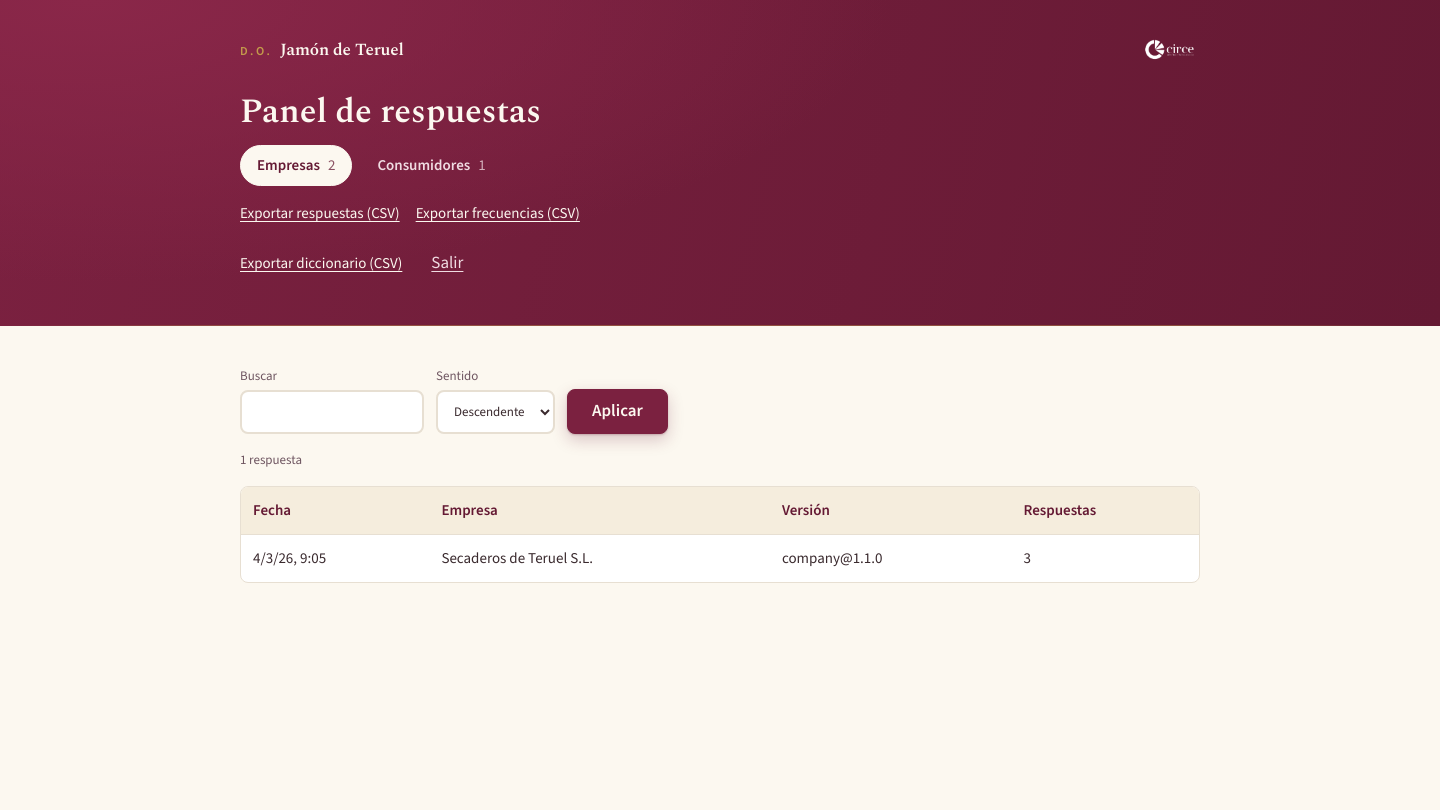
Test case: the admin panel › applies the filters only on submit, and carries them into the export links
The width and height of the screenshot is (1440, 810).
Expected: the button "4/3/26, 9:05 Secaderos de Teruel S.L. company@1.1.0 3" is shown, [241,535,1199,582]
Type "teruel" into the search field labelled "Buscar" at coordinates (332, 412), box [240,390,424,434]
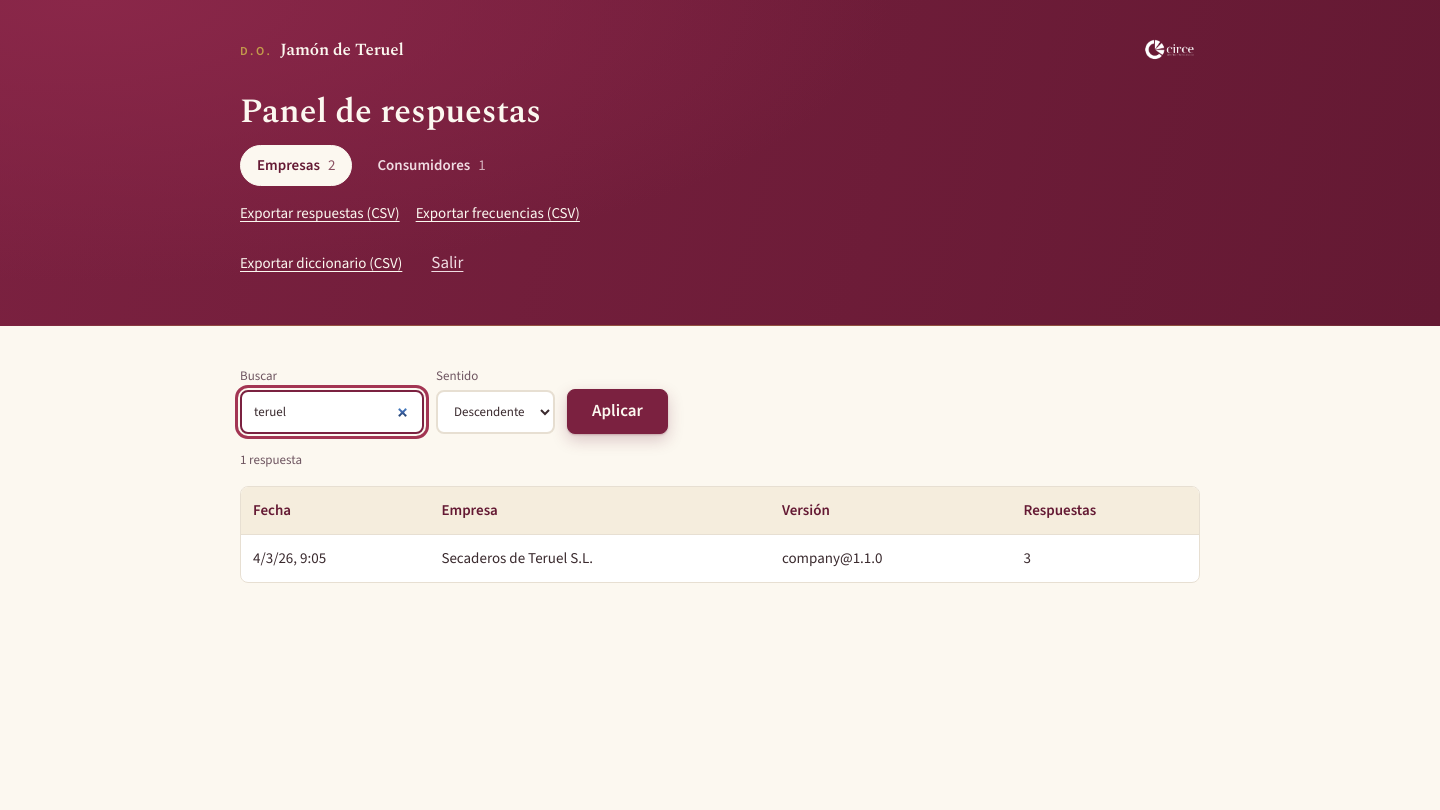
Click the button "Aplicar" at coordinates (617, 412), box [567,389,668,434]
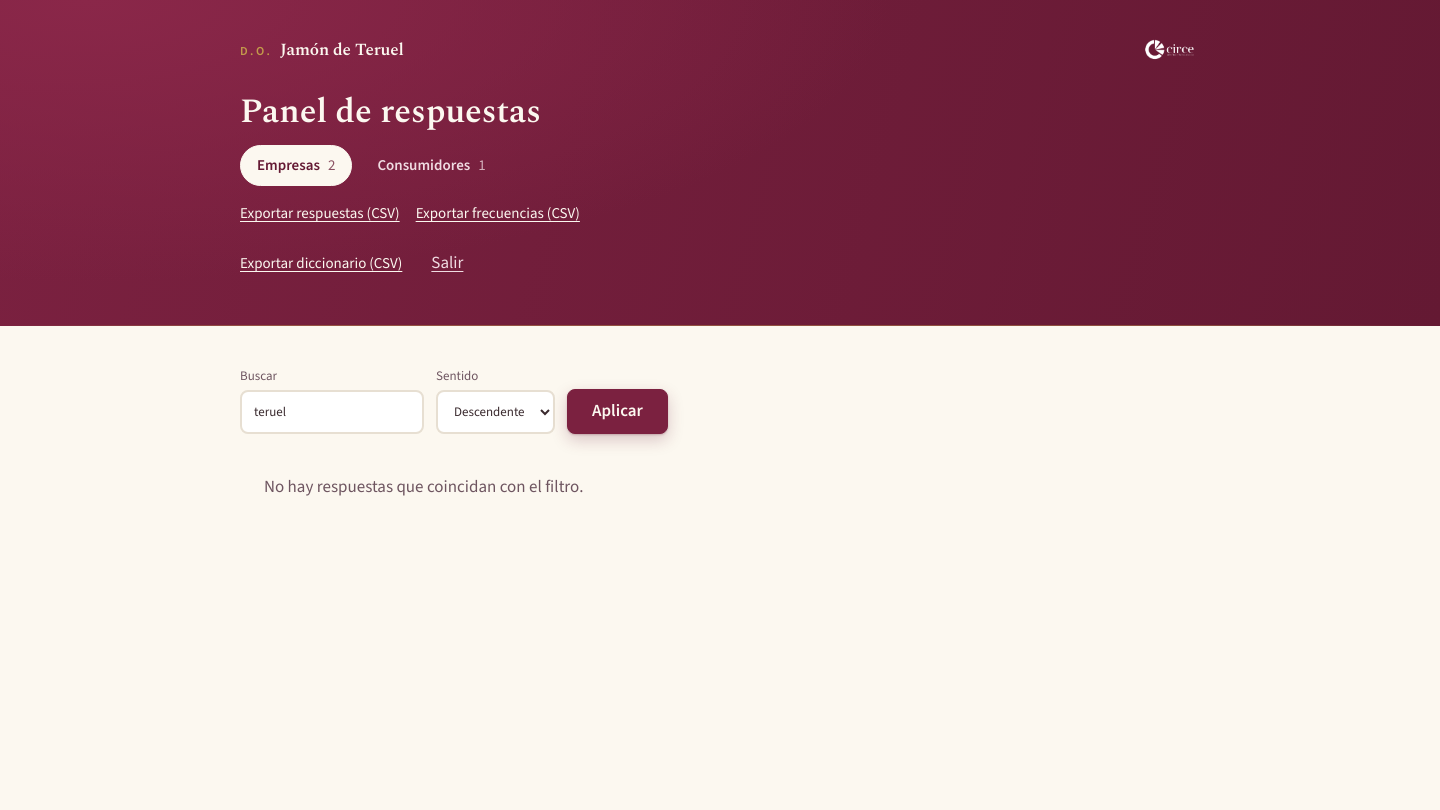
Result: the text "No hay respuestas que coincidan con el filtro." is shown at [264,475,583,498]
